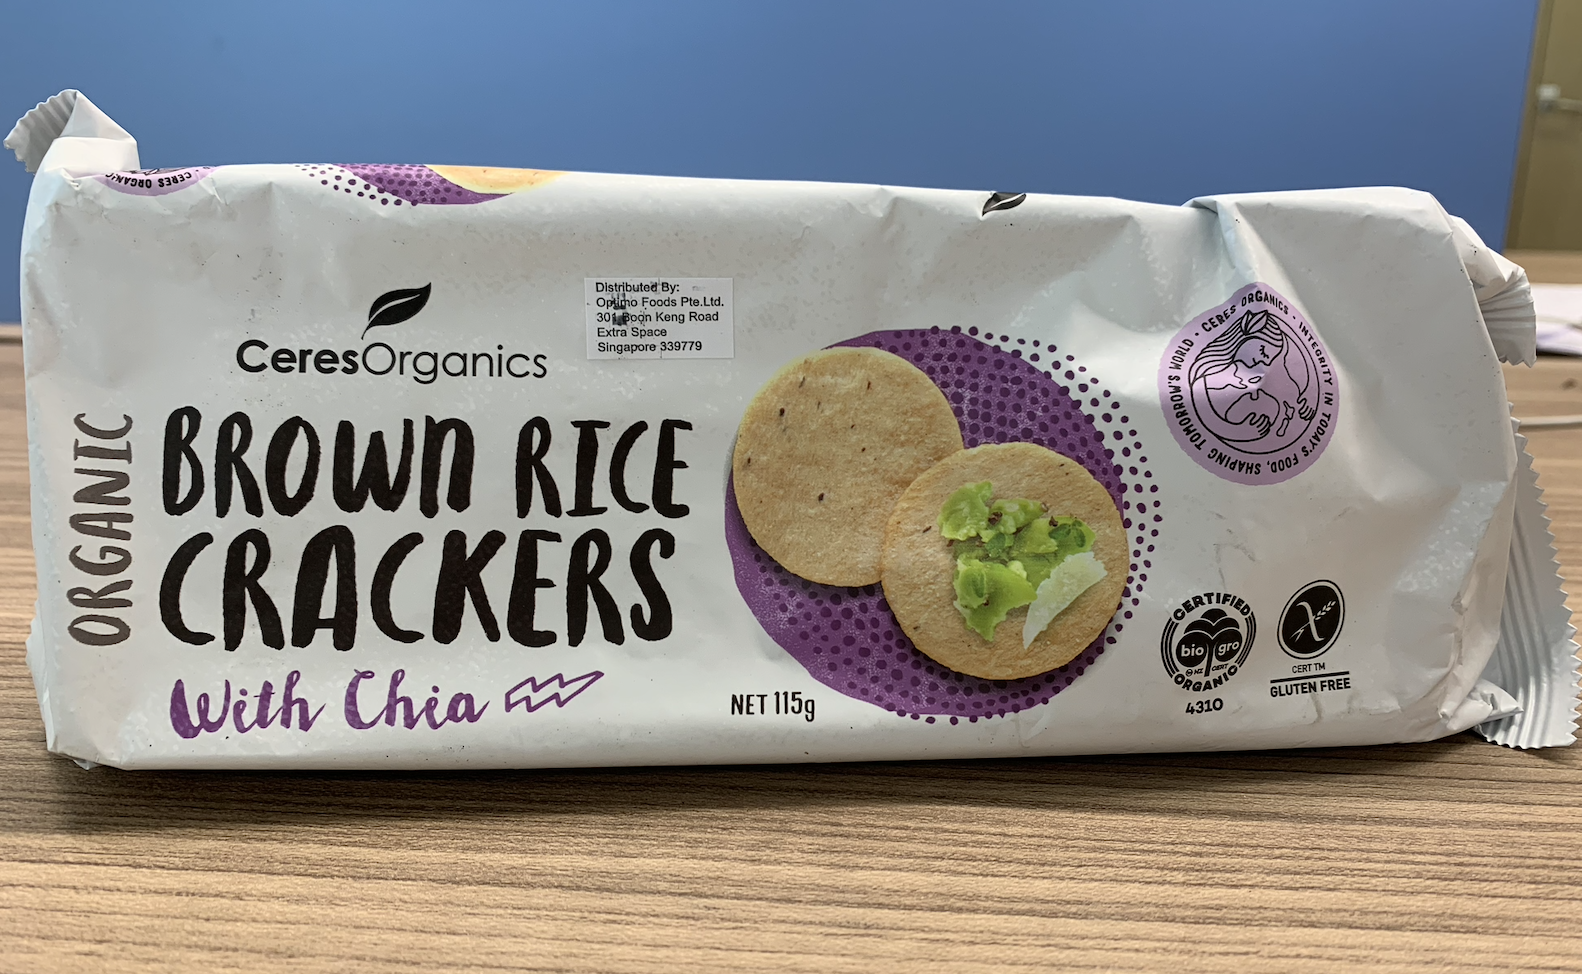crackers_100g-199g: (68, 236, 1470, 734)
